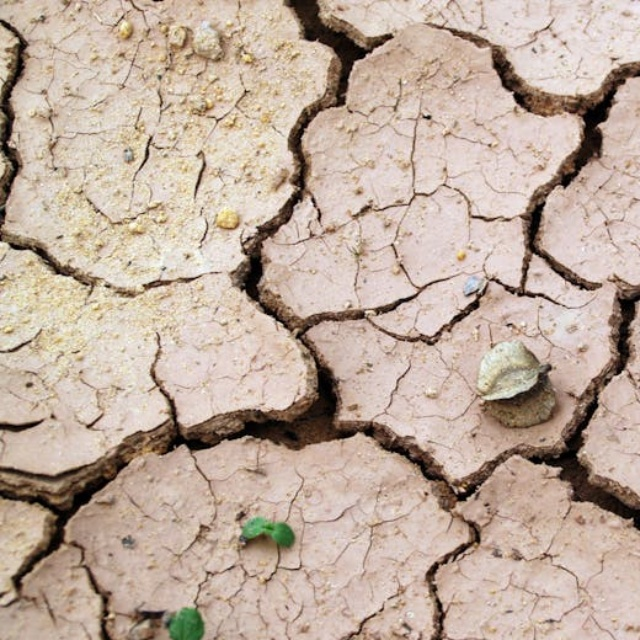细微裂纹: (370, 303, 544, 640), (319, 391, 537, 640), (6, 204, 313, 319), (260, 531, 524, 640)
网状裂隙: (0, 0, 640, 541)
